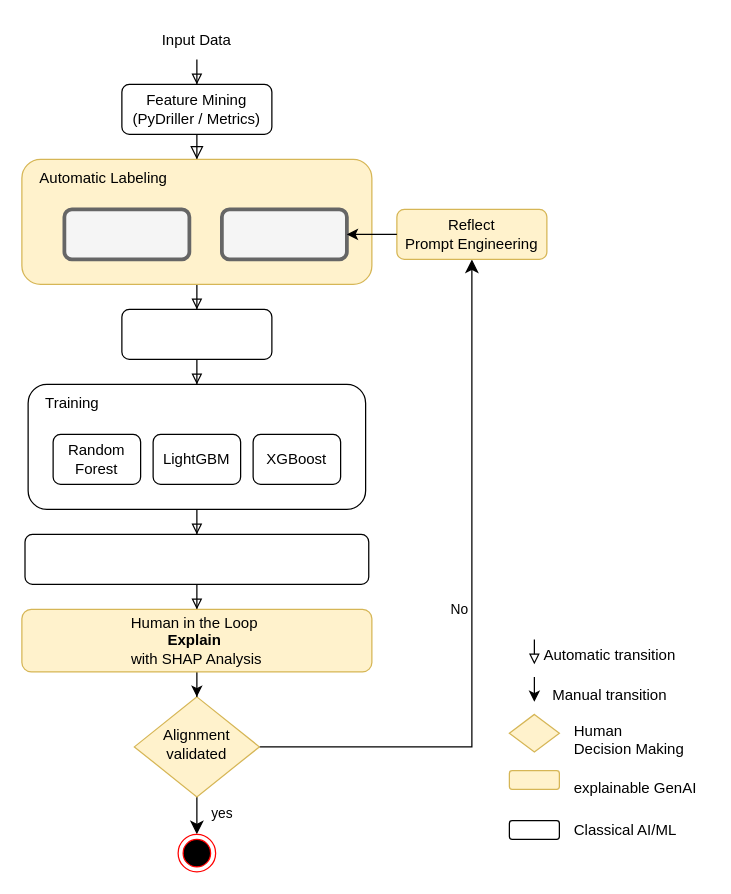
This 731x894 diagram has some shape labels left out. Here are the shapes that lost their labels. From the top down, the centre of each, then its label:
At (126,234): "SATD Keyword Detection".
At (283,234): "LLM-as-Judge Labeling".
At (196,333): "Spliting (Time / LOPO)".
At (196,558): "Evaluation (Accuracy, ROC, AUC, Recall, Precision)".
